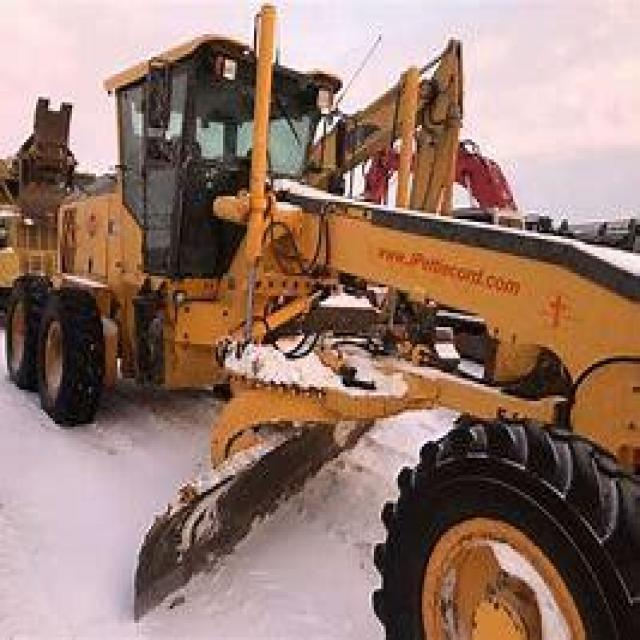Grader: (15, 20, 638, 634)
